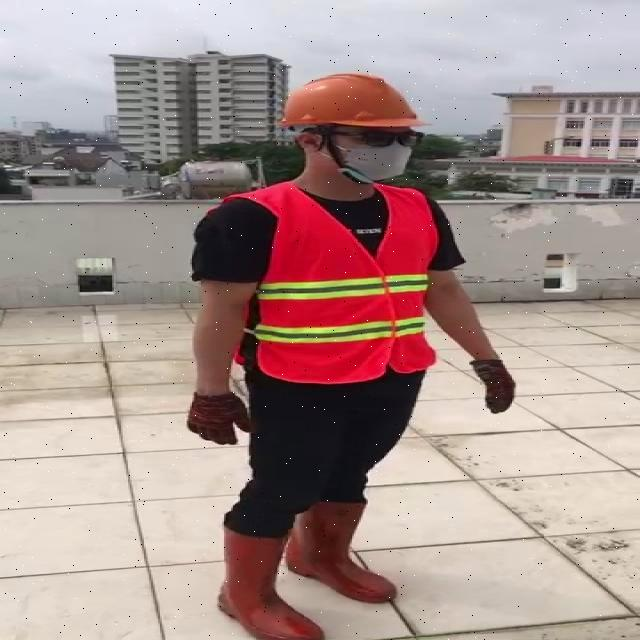Hard_hat: (271, 67, 432, 144)
Person: (176, 63, 526, 639)
Vest: (254, 179, 435, 386)
